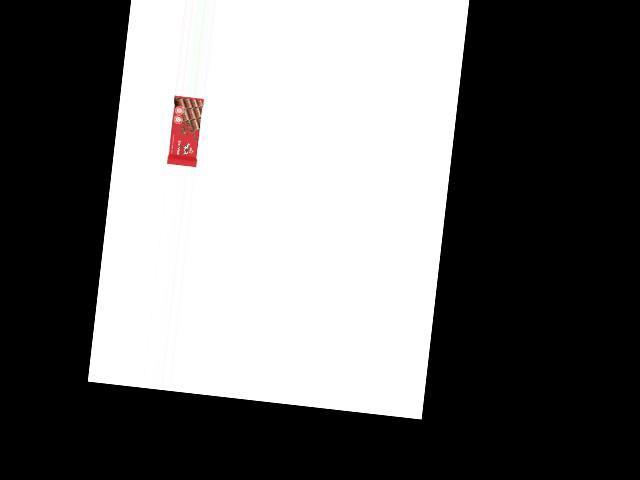chocolate: (166, 95, 203, 168)
